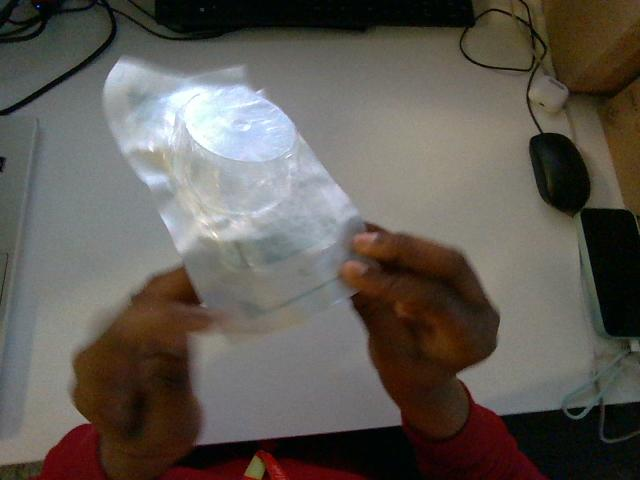gallipot: (104, 58, 363, 337)
